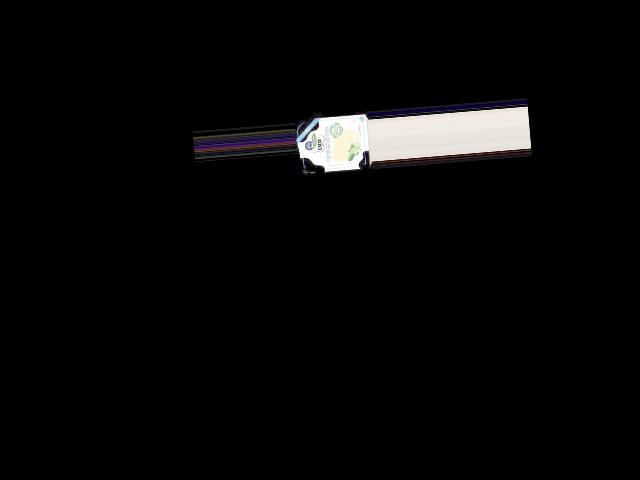cheese: (295, 110, 373, 176)
